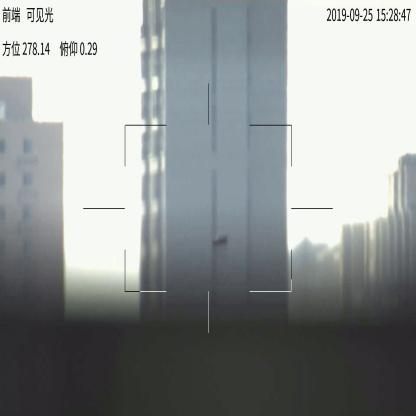uav: (211, 233, 228, 247)
